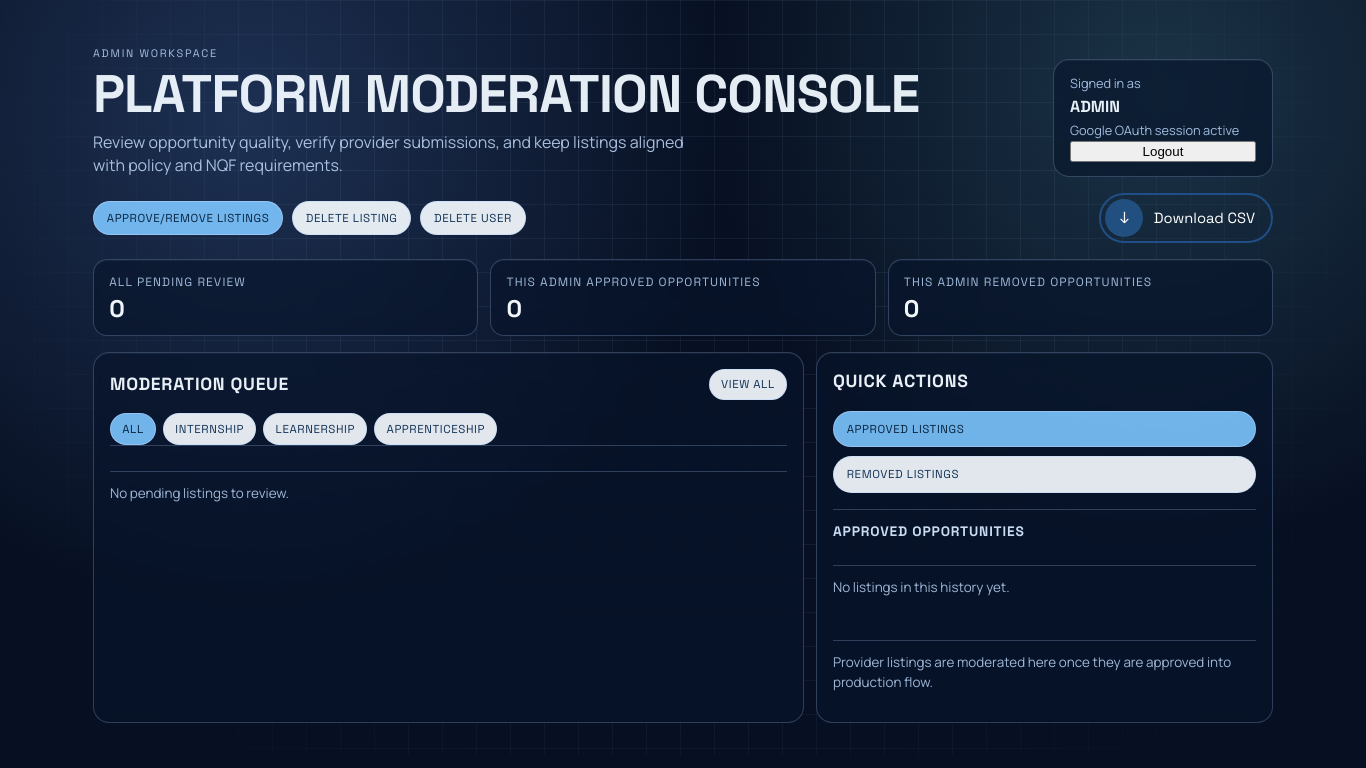
Test case: Admin moderation queue TDD tests › 6. delete action removes a listing and logs the listing type
Click the tab "Delete Listing" at coordinates (352, 218), box [292,201,411,235]
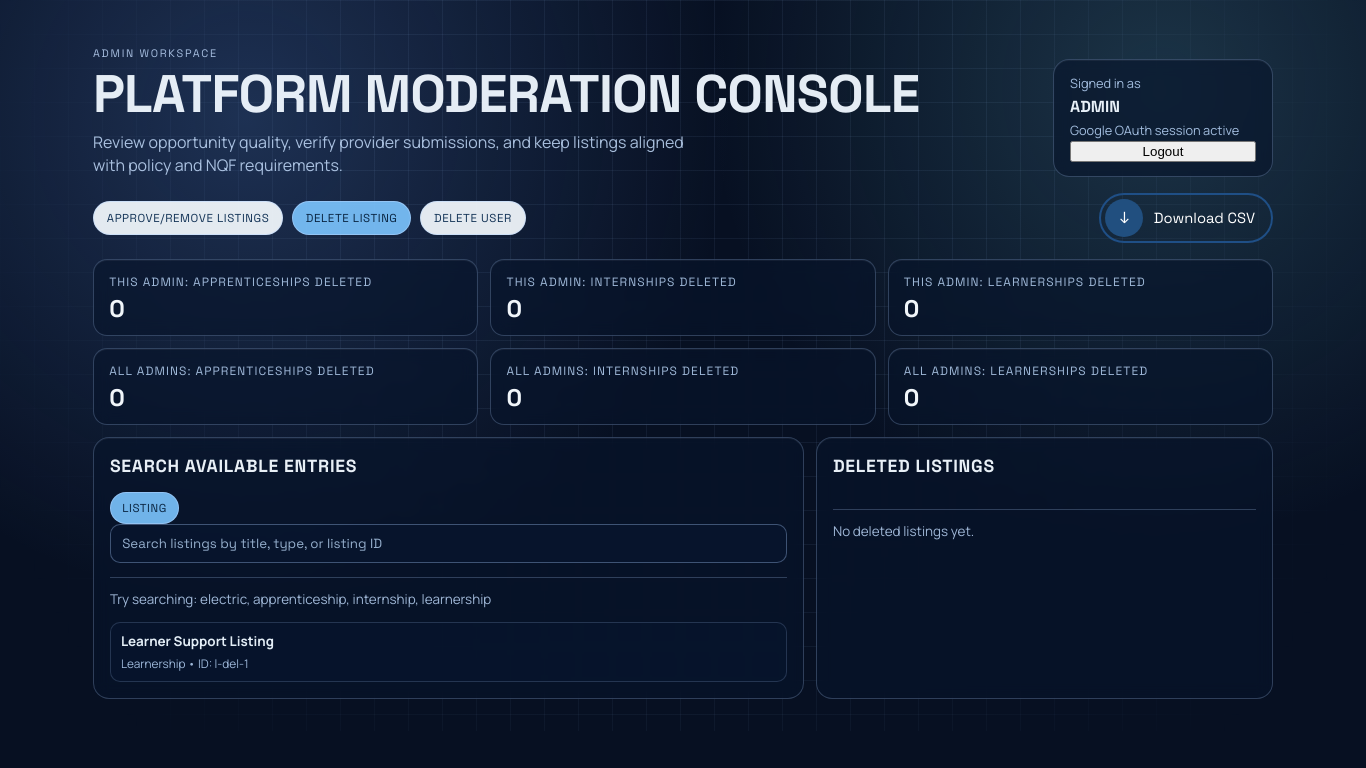
Expected: the text "Learner Support Listing" is shown, [121,632,274,650]
Click the button "Learner Support Listing Learnership • ID: l-del-1" at coordinates (197, 641), box [110,622,787,682]
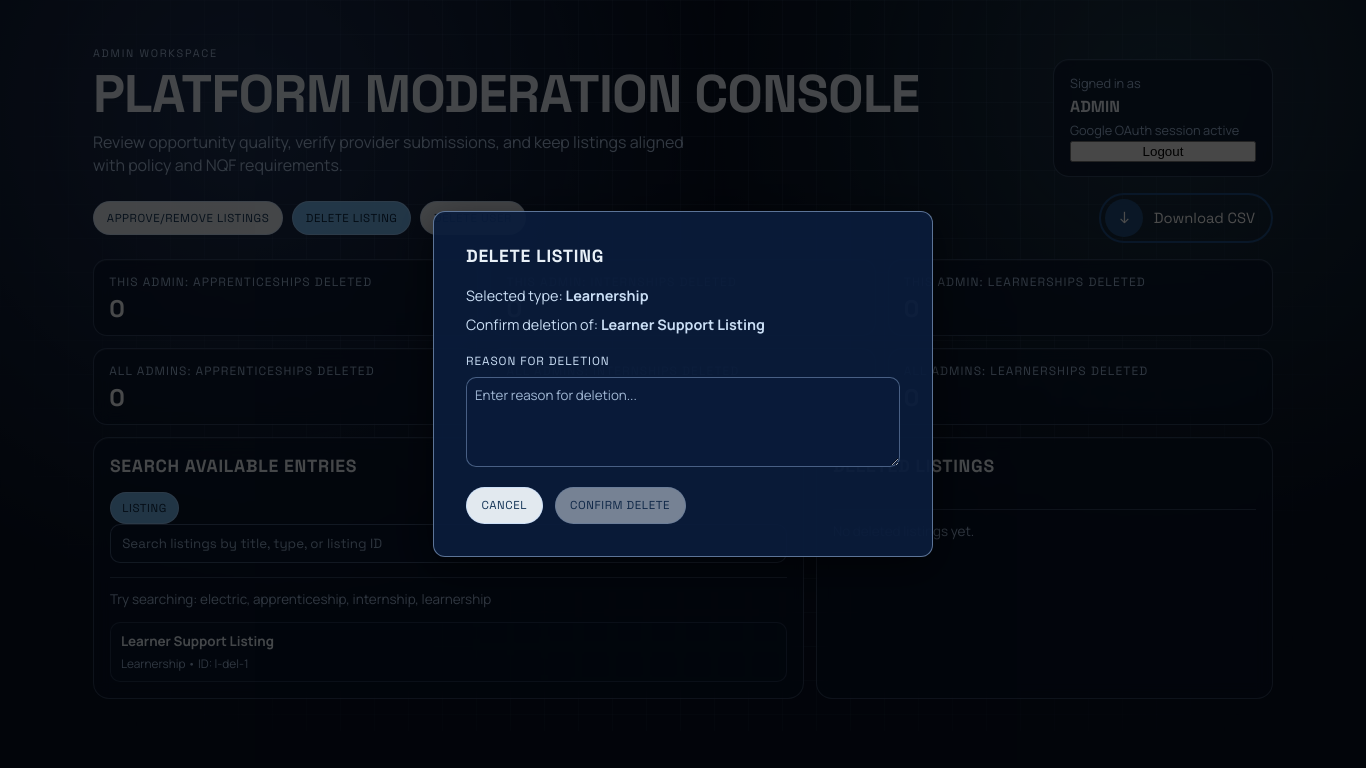
Type "No longer active" into the text box labelled "Reason for deletion" at coordinates (683, 422), box [466,377,900,467]
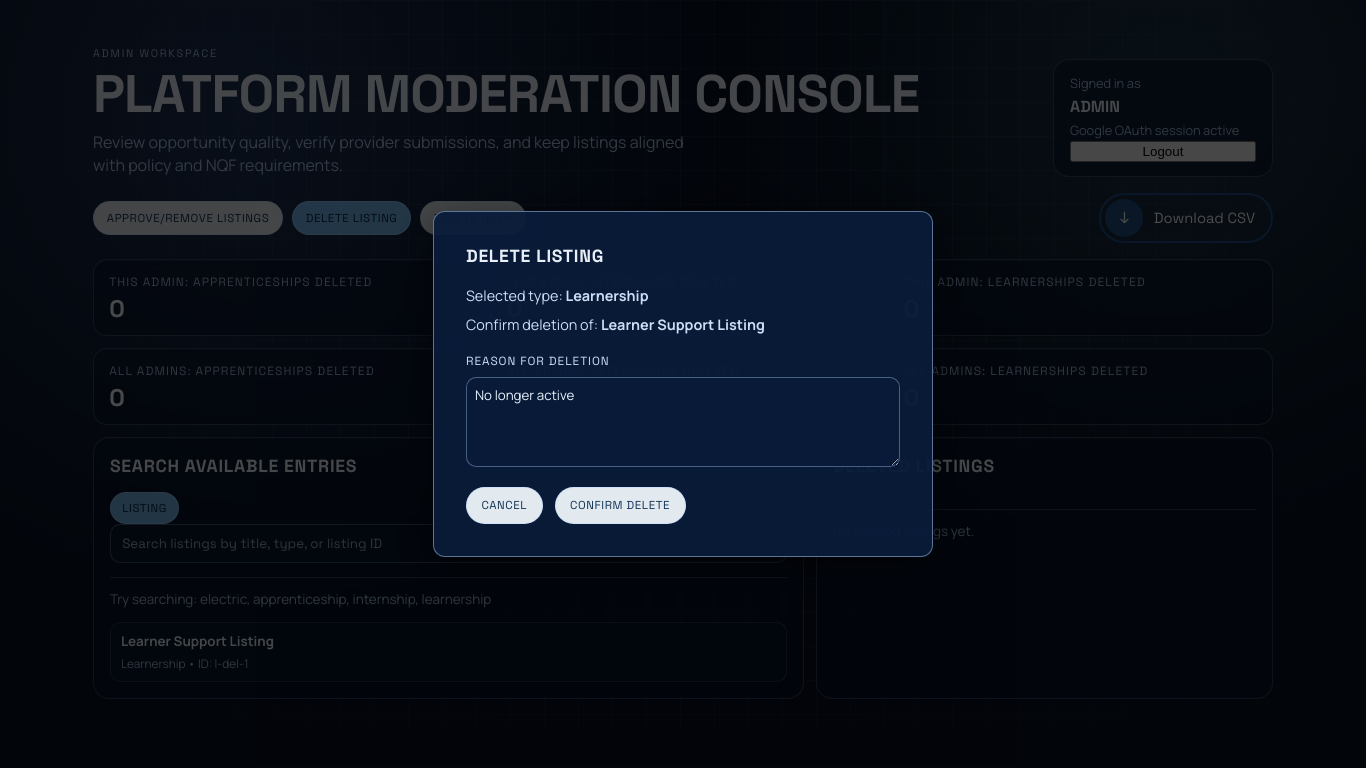
Click the button "Confirm Delete" at coordinates (620, 505), box [555,487,686,524]
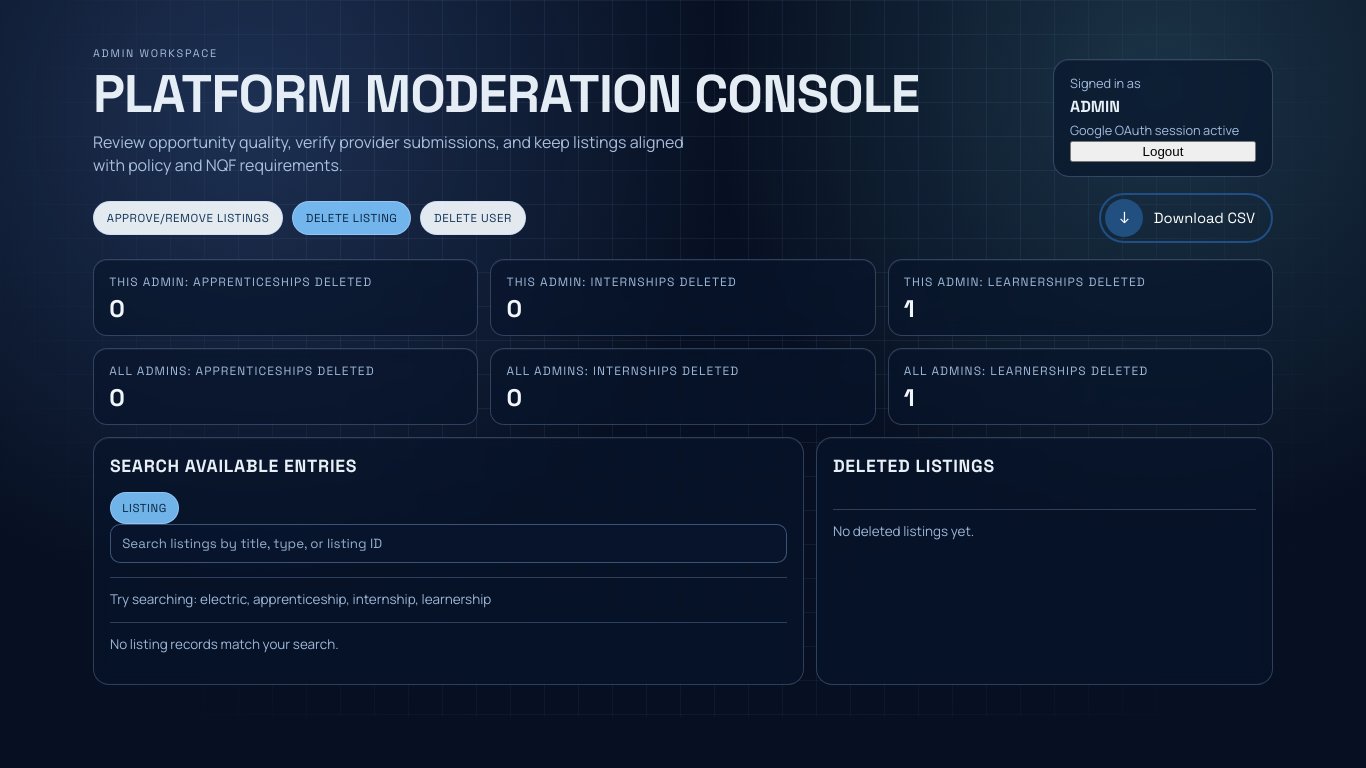
Expected: the button "Learner Support Listing" is gone
